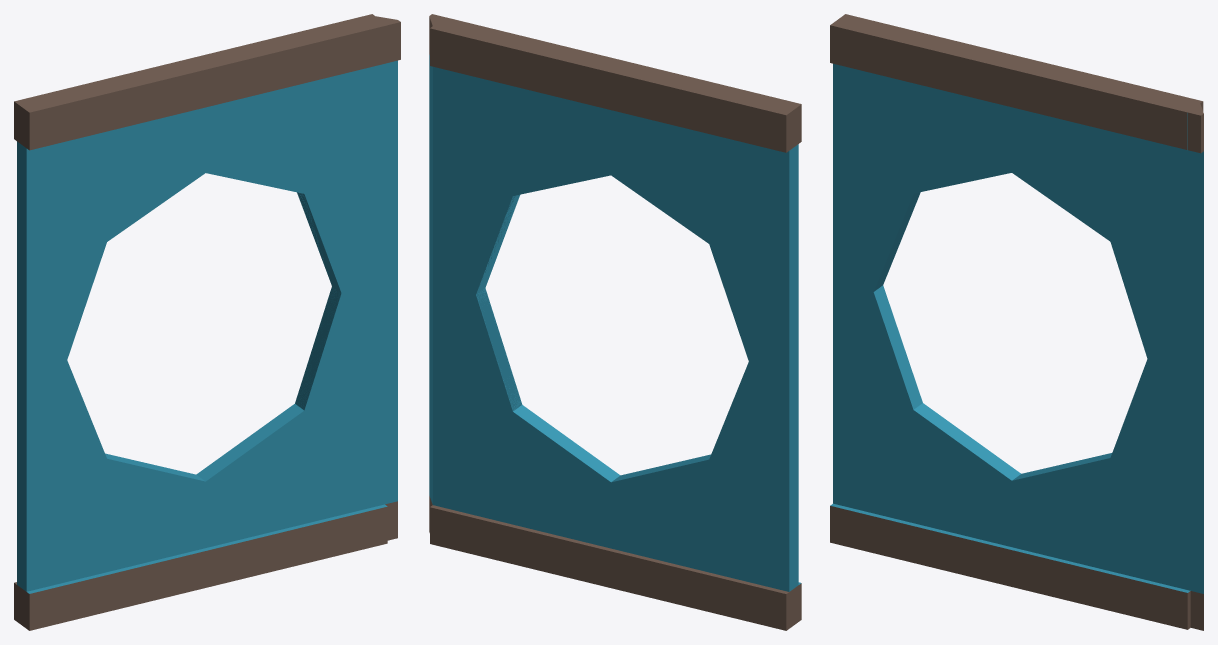
File: WindowTile.fbx
3 renders of one model, left to right at view 1: azimuth 30°, elevation 25°; view 2: azimuth 150°, elevation 25°; view 3: azimuth 330°, elevation 25°, orthographic.
Parts seen in each view (by area): view 1: RoundWindowWall; view 2: RoundWindowWall; view 3: RoundWindowWall.
Part boxes in pixels (x1,y1,x2,y2): RoundWindowWall: (14, 14, 400, 630); RoundWindowWall: (429, 14, 801, 630); RoundWindowWall: (830, 14, 1203, 630).
Size of the model in its own units: 900 by 1200 by 64.65.
